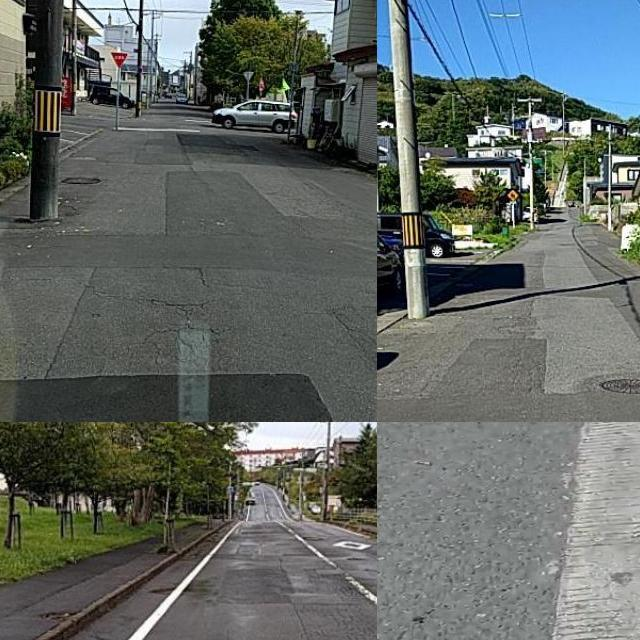Sambungan: (0, 172, 315, 273), (377, 334, 640, 422), (549, 422, 640, 640), (0, 373, 334, 422)
